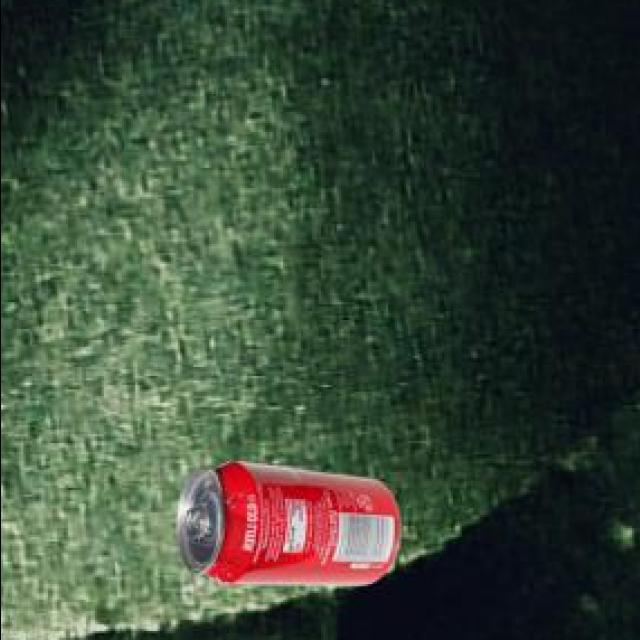logam: (180, 464, 402, 587)
